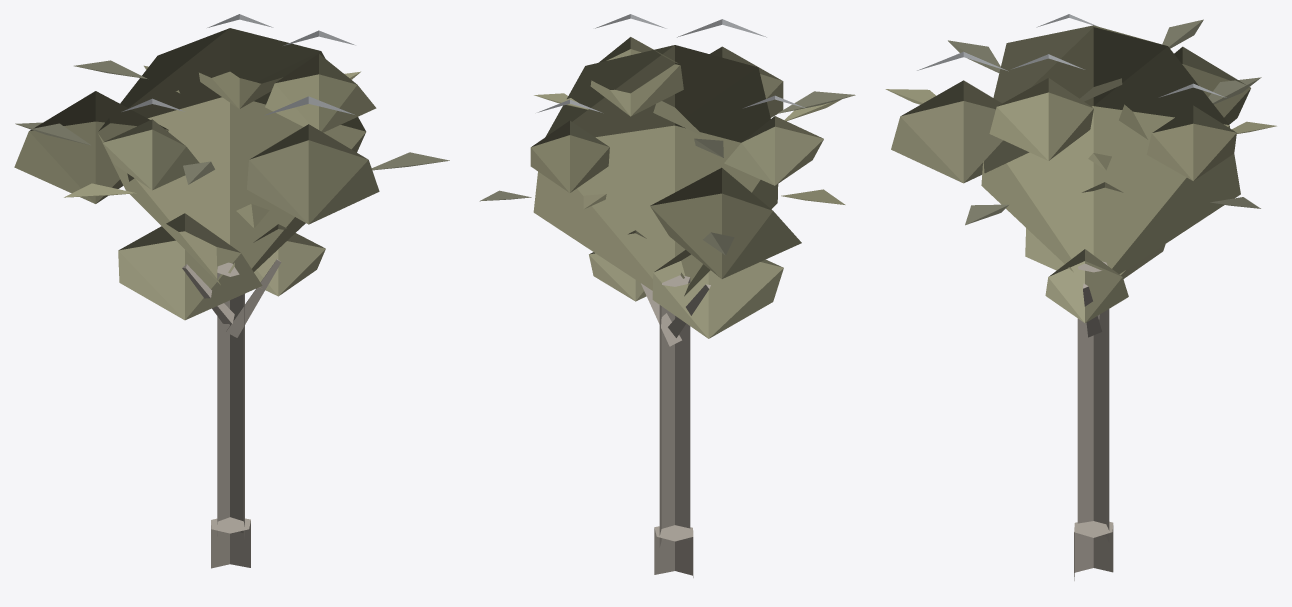
File: shu.chuizhi@subadult__winter.glb
3 renders of one model, left to right at view 1: azimuth 30°, elevation 25°; view 2: azimuth 150°, elevation 25°; view 3: azimuth 270°, elevation 25°, orthographic. The views are drawn at different scales.
Parts seen in each view (by area): view 1: shu.chuizhi@subadult__winter; view 2: shu.chuizhi@subadult__winter; view 3: shu.chuizhi@subadult__winter.
Part boxes in pixels (x1,y1,x2,y2): shu.chuizhi@subadult__winter: (14,14,449,568); shu.chuizhi@subadult__winter: (479,14,855,577); shu.chuizhi@subadult__winter: (885,14,1276,580).
Size of the model in its own units: 3.63 by 5.7 by 3.64.
